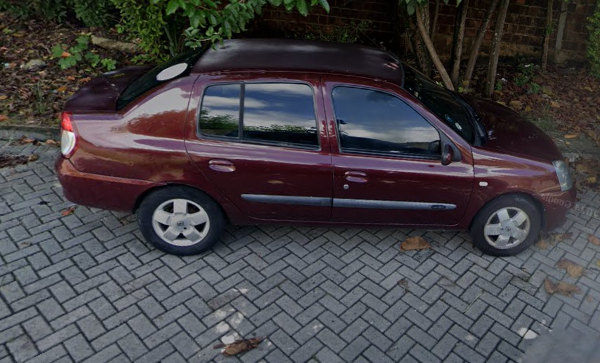car: (53, 34, 580, 257)
